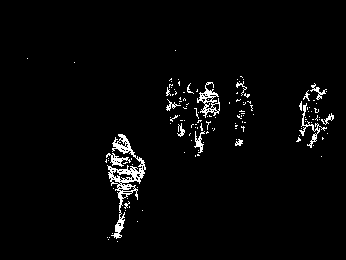person: (106, 133, 145, 239), (228, 75, 256, 148), (308, 90, 334, 148), (297, 82, 318, 142), (165, 77, 186, 137), (183, 82, 200, 147), (201, 80, 220, 134)
